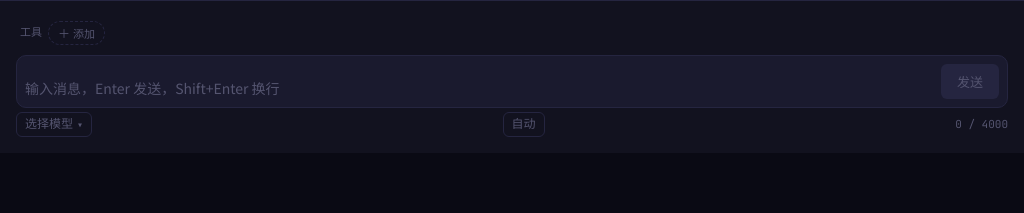
it: MessageInput › 输入为 / 时点击提示条自动补全为 /plan （AC-N04）
This screenshot has width=1024, height=213.
Type "/" into the text box with placeholder "输入消息，Enter 发送，Shift+Enter 换行" at (479,88), box [25,77,933,99]
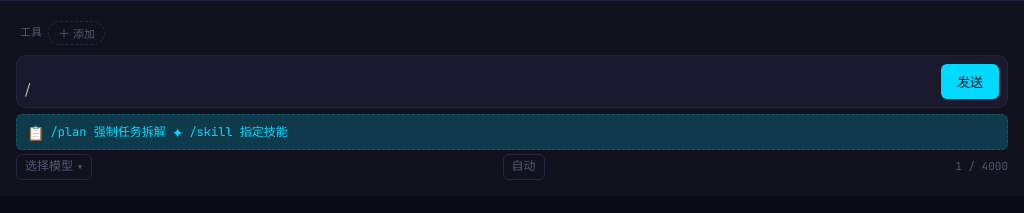
提示条现为 /plan 与 /skill 两个可点击项（CR-001）
Click the element showing "📋 /plan 强制任务拆解" at (96,132), box [27,121,166,143]
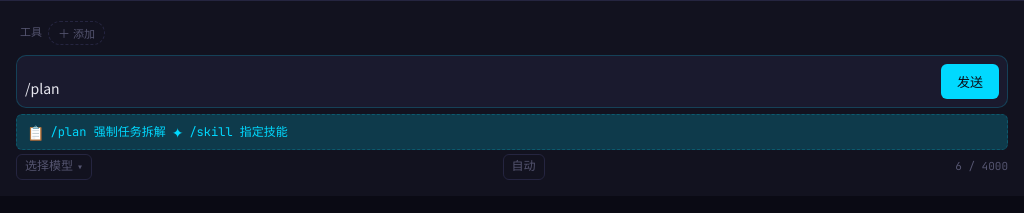
Result: the text box holds "/plan " at [25,77,933,99]
